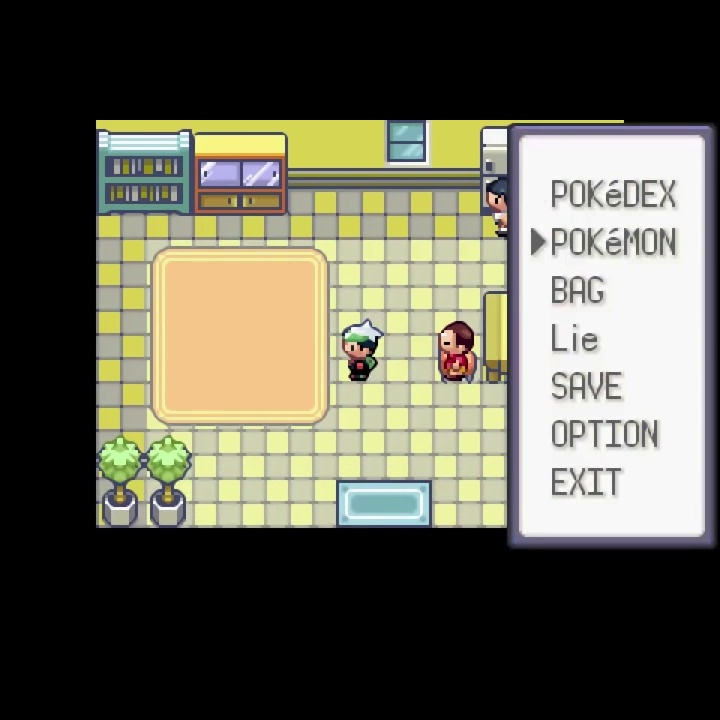exit: (335, 478, 433, 587)
npc: (340, 317, 387, 384), (435, 318, 475, 387)
